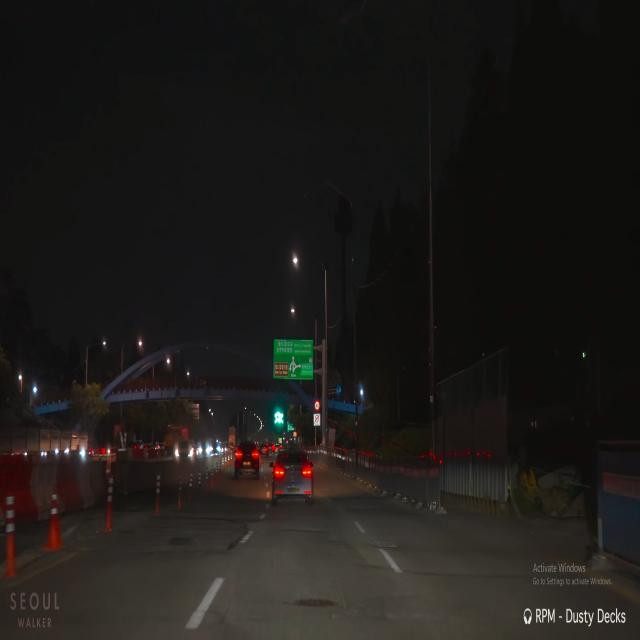headlights: (172, 441, 196, 464), (198, 440, 215, 460)
